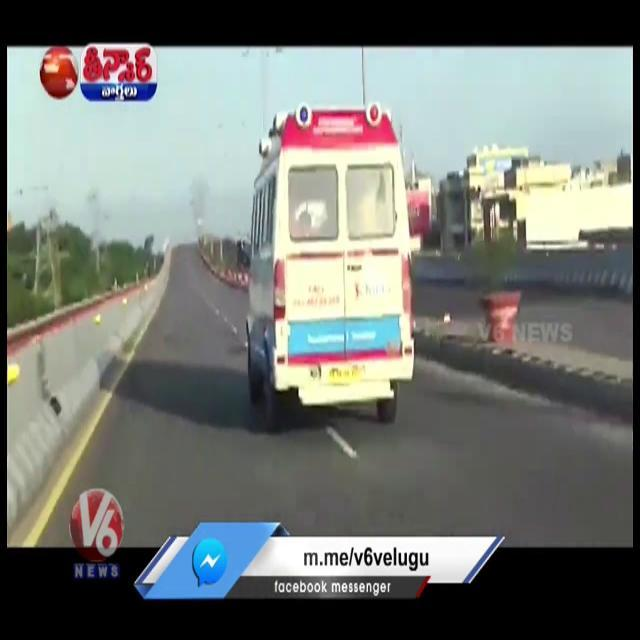ambulance: (234, 112, 416, 426)
